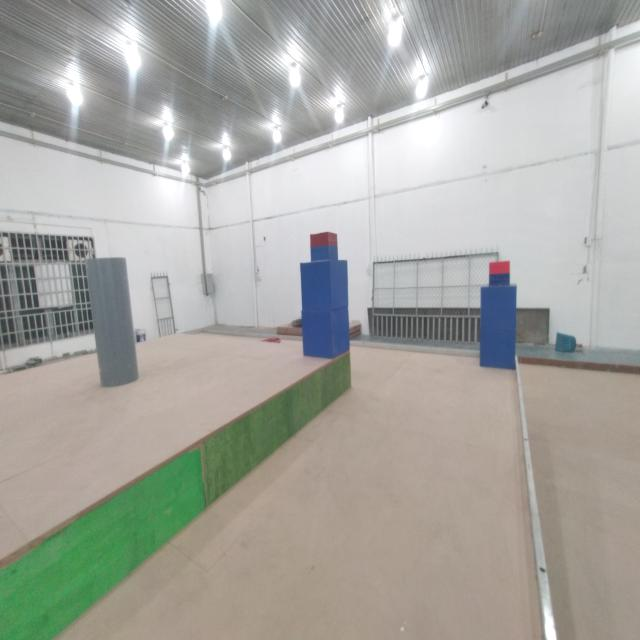earth_block: (298, 308, 352, 359), (298, 260, 350, 310), (477, 327, 518, 372), (478, 284, 518, 327)
sky_block: (308, 230, 339, 262), (488, 260, 511, 285)
